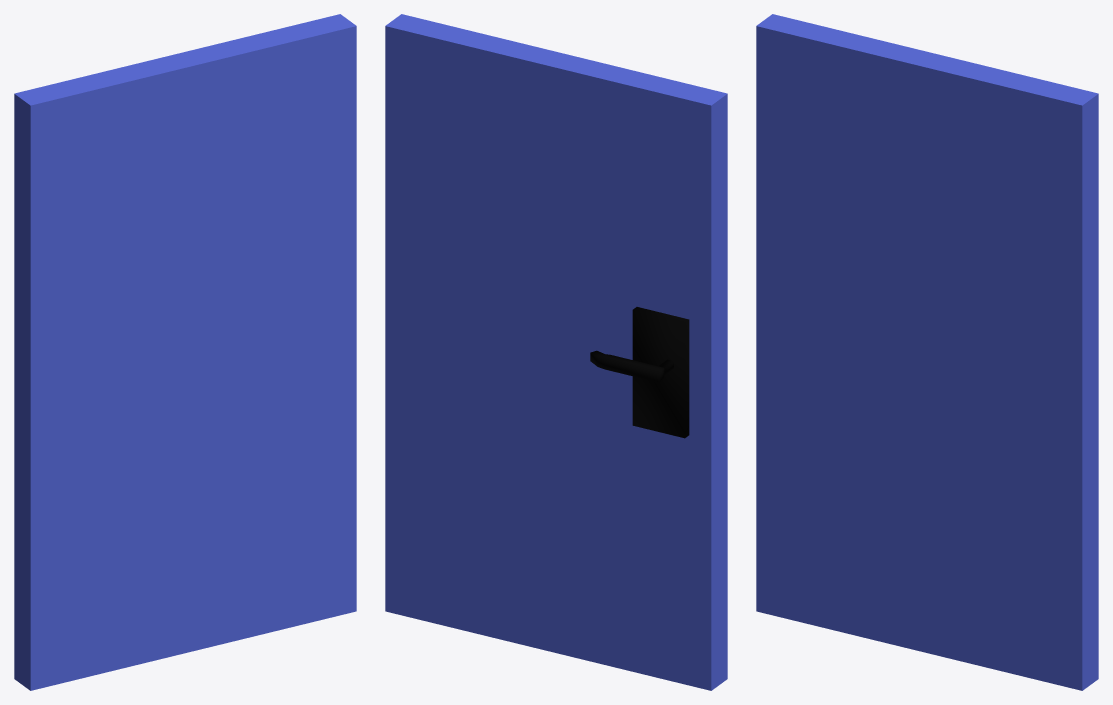
Rendered from model_door_01_open_02.fbx.
3 renders of one model, left to right at view 1: azimuth 30°, elevation 25°; view 2: azimuth 150°, elevation 25°; view 3: azimuth 330°, elevation 25°, orthographic.
Parts seen in each view (by area): view 1: Plane.036; view 2: Plane.036; view 3: Plane.036.
Part boxes in pixels (left/top/right/bottom): Plane.036: left=14, top=14, right=356, bottom=690; Plane.036: left=385, top=14, right=727, bottom=690; Plane.036: left=756, top=14, right=1098, bottom=690.
Bounding box in the file's own units: 124 × 213 × 24.59.
